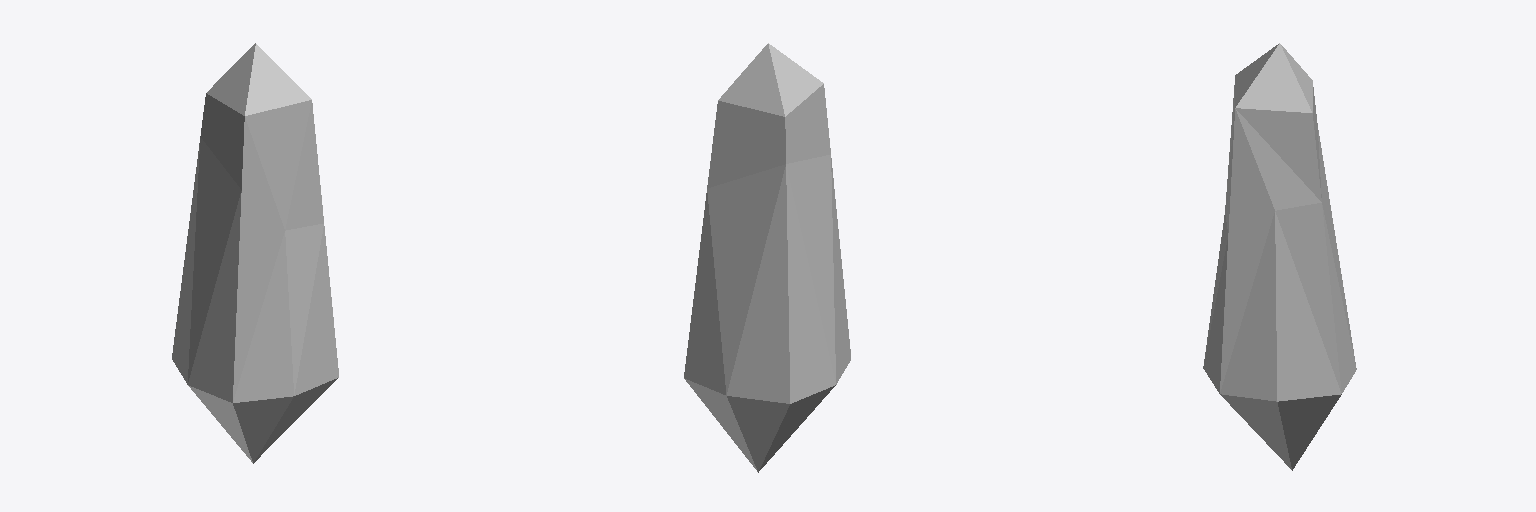
File: arc.obj
3 views of the same model, side by side, from view 1: azimuth 30°, elevation 25°; view 2: azimuth 150°, elevation 25°; view 3: azimuth 270°, elevation 25° (orthographic).
Visible parts, largest first — view 1: world/kalimdor/azshara/activedoodads/arcanecrystal/arcanecrystal; view 2: world/kalimdor/azshara/activedoodads/arcanecrystal/arcanecrystal; view 3: world/kalimdor/azshara/activedoodads/arcanecrystal/arcanecrystal.
Boxes of the visible parts, x1=… form: world/kalimdor/azshara/activedoodads/arcanecrystal/arcanecrystal: x1=172, y1=43, x2=338, y2=463; world/kalimdor/azshara/activedoodads/arcanecrystal/arcanecrystal: x1=684, y1=43, x2=850, y2=472; world/kalimdor/azshara/activedoodads/arcanecrystal/arcanecrystal: x1=1203, y1=43, x2=1356, y2=470.
Bounding box in the file's own units: 2.9 × 8.65 × 2.83.